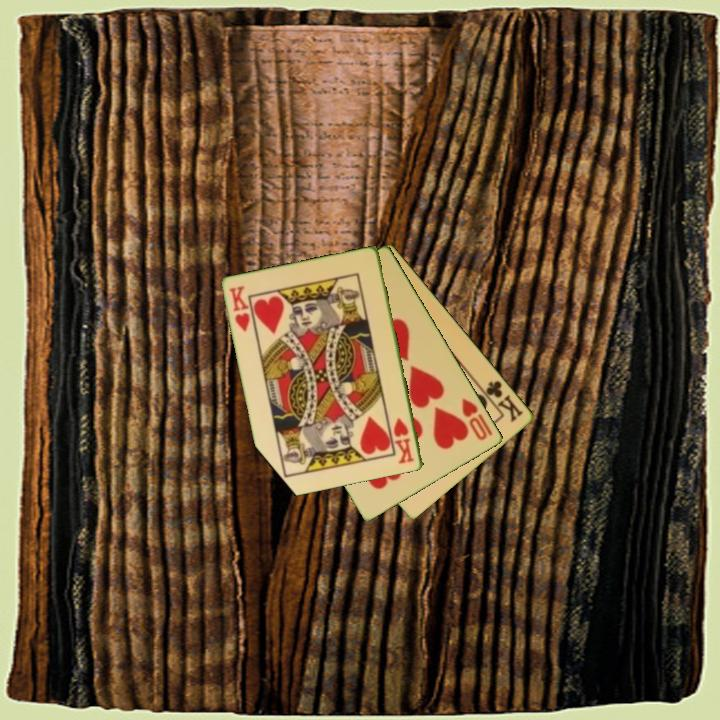10h: (459, 394, 491, 444)
Kc: (478, 377, 527, 425)
Kh: (390, 414, 417, 467), (226, 282, 253, 335)
